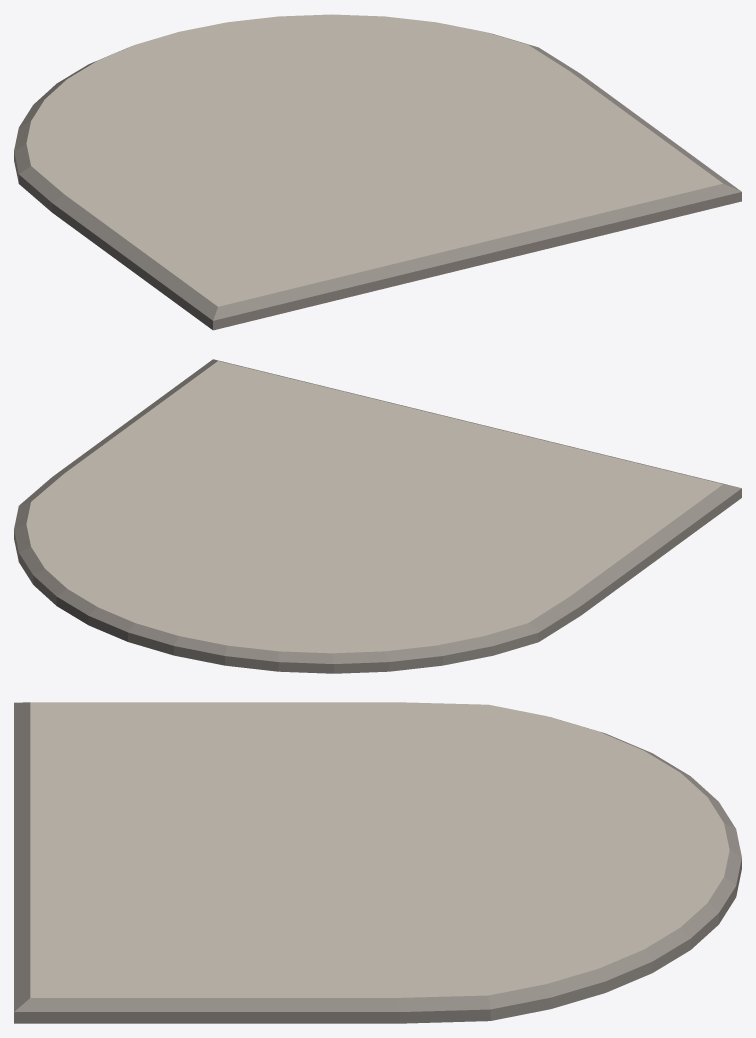
Rendered from Path_Slab_1x1_RoundedEnd.fbx.
The picture shows the model from 3 angles, top to bottom: view 1: azimuth 30°, elevation 25°; view 2: azimuth 150°, elevation 25°; view 3: azimuth 270°, elevation 25°; orthographic projection. The views are drawn at different scales.
Visible parts, largest first — view 1: Slab_1x1_RoundedEnd; view 2: Slab_1x1_RoundedEnd; view 3: Slab_1x1_RoundedEnd.
Part boxes in pixels (bbox=[...]): Slab_1x1_RoundedEnd: bbox=[14, 14, 741, 330]; Slab_1x1_RoundedEnd: bbox=[14, 359, 741, 673]; Slab_1x1_RoundedEnd: bbox=[14, 702, 741, 1023].
Bounding box in the file's own units: 100 × 2.85 × 99.43.
